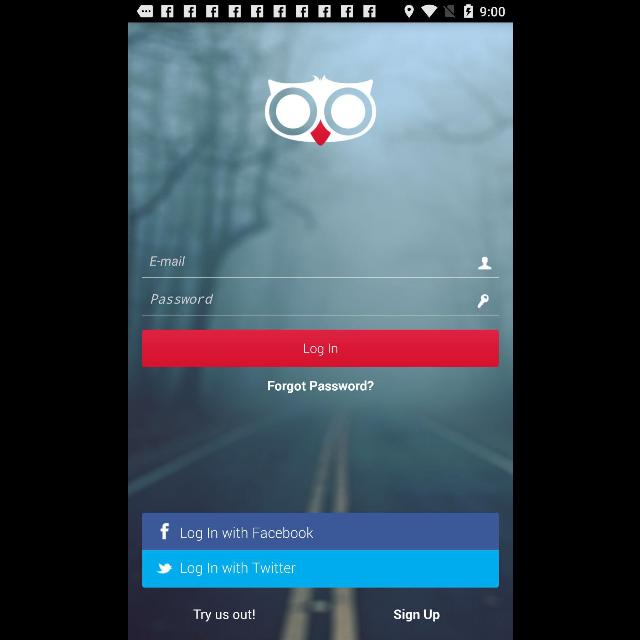icon: (478, 256, 490, 270)
image: (264, 75, 376, 147), (476, 294, 488, 308)
input: (142, 294, 498, 316), (142, 256, 498, 278)
text: (267, 381, 373, 394), (192, 609, 254, 621), (150, 294, 212, 304), (393, 610, 439, 622), (150, 256, 184, 266)
textbutton: (142, 550, 498, 588), (142, 512, 498, 550), (142, 330, 498, 368)
uppertaskbar: (128, 1, 512, 23)
